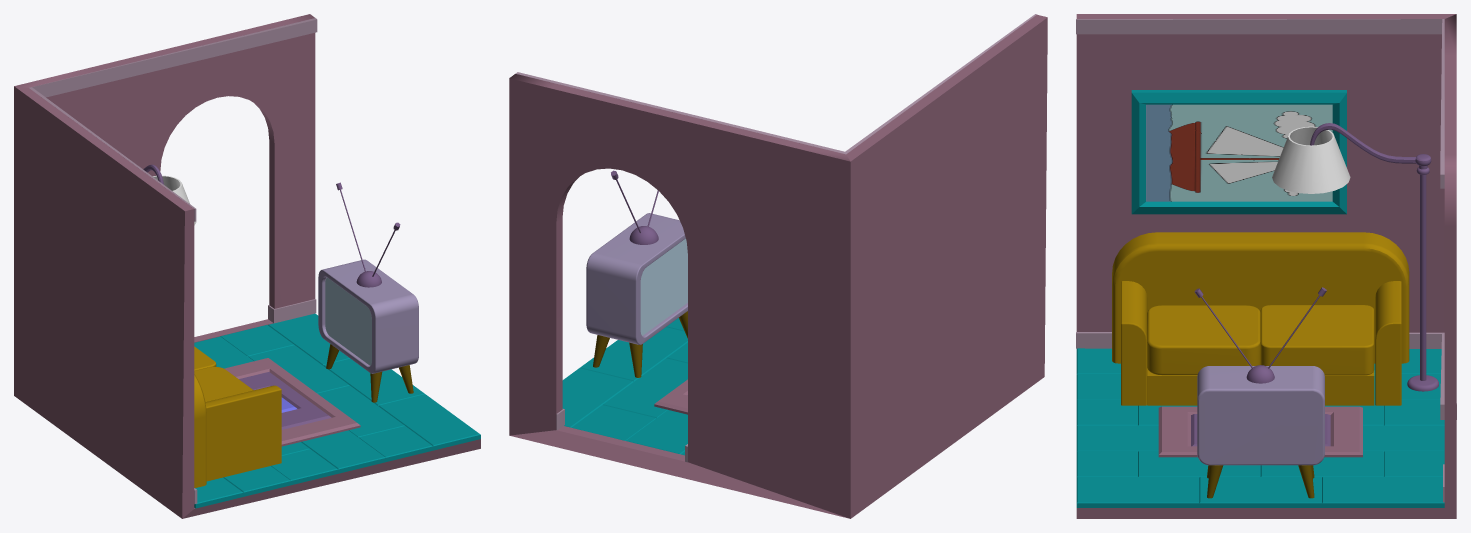
The model's file is LivingRoomExport2.fbx.
3 views of the same model, side by side, from view 1: azimuth 30°, elevation 25°; view 2: azimuth 150°, elevation 25°; view 3: azimuth 270°, elevation 25° (orthographic). The views are drawn at different scales.
Parts seen in each view (by area): view 1: LivingRoom, ArchwayWall, Tile01 (×6), TvBox, ArmRest01, pCube2, Tile03 (×3), Tile02 (×2), Border, TvScreen, Middle, Tile04 (+3 smaller); view 2: ArchwayWall, LivingRoom, TvBox, Tile03 (×3), TvScreen, Tile02, Tile04, pCube2, Border; view 3: LivingRoom, CouchBack, picture, TvBox, Tile01 (×6), Tile03 (×5), pictureFrame, CouchCoushin02, CouchCoushin01, pCube2, ArchwayWall, Tile02 (×3) (+9 smaller).
Boxes of the visible parts, left/top/right/bottom form: LivingRoom: left=14, top=86, right=480, bottom=518; ArchwayWall: left=14, top=14, right=315, bottom=342; Tile01 (×6): left=194, top=394, right=480, bottom=508; TvBox: left=318, top=259, right=418, bottom=373; ArmRest01: left=205, top=385, right=281, bottom=481; pCube2: left=29, top=18, right=317, bottom=221; Tile03 (×3): left=194, top=313, right=349, bottom=393; Tile02 (×2): left=317, top=358, right=424, bottom=437; Border: left=224, top=358, right=360, bottom=446; TvScreen: left=325, top=277, right=371, bottom=365; Middle: left=239, top=372, right=331, bottom=429; Tile04: left=220, top=325, right=293, bottom=356; ArchwayWall: left=509, top=74, right=850, bottom=518; LivingRoom: left=846, top=14, right=1047, bottom=518; TvBox: left=586, top=213, right=687, bottom=344; Tile03 (×3): left=562, top=358, right=687, bottom=454; TvScreen: left=640, top=238, right=687, bottom=335; Tile02: left=580, top=327, right=687, bottom=381; Tile04: left=571, top=405, right=655, bottom=440; pCube2: left=515, top=14, right=1036, bottom=154; Border: left=654, top=379, right=687, bottom=414; LivingRoom: left=1076, top=14, right=1456, bottom=518; CouchBack: left=1112, top=232, right=1409, bottom=363; picture: left=1146, top=104, right=1332, bottom=201; TvBox: left=1197, top=366, right=1324, bottom=465; Tile01 (×6): left=1076, top=348, right=1199, bottom=507; Tile03 (×5): left=1260, top=374, right=1444, bottom=507; pictureFrame: left=1131, top=90, right=1346, bottom=214; CouchCoushin02: left=1260, top=305, right=1374, bottom=375; CouchCoushin01: left=1147, top=305, right=1260, bottom=375; pCube2: left=1076, top=19, right=1444, bottom=188; ArchwayWall: left=1444, top=14, right=1456, bottom=518; Tile02 (×3): left=1138, top=405, right=1321, bottom=507.
Size of the model in its own units: 6.2 by 6.22 by 6.21.
11 materials, 1 textured.
